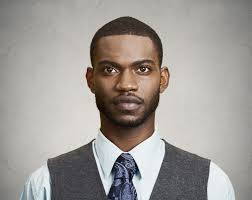s.black: (93, 78, 116, 111)
